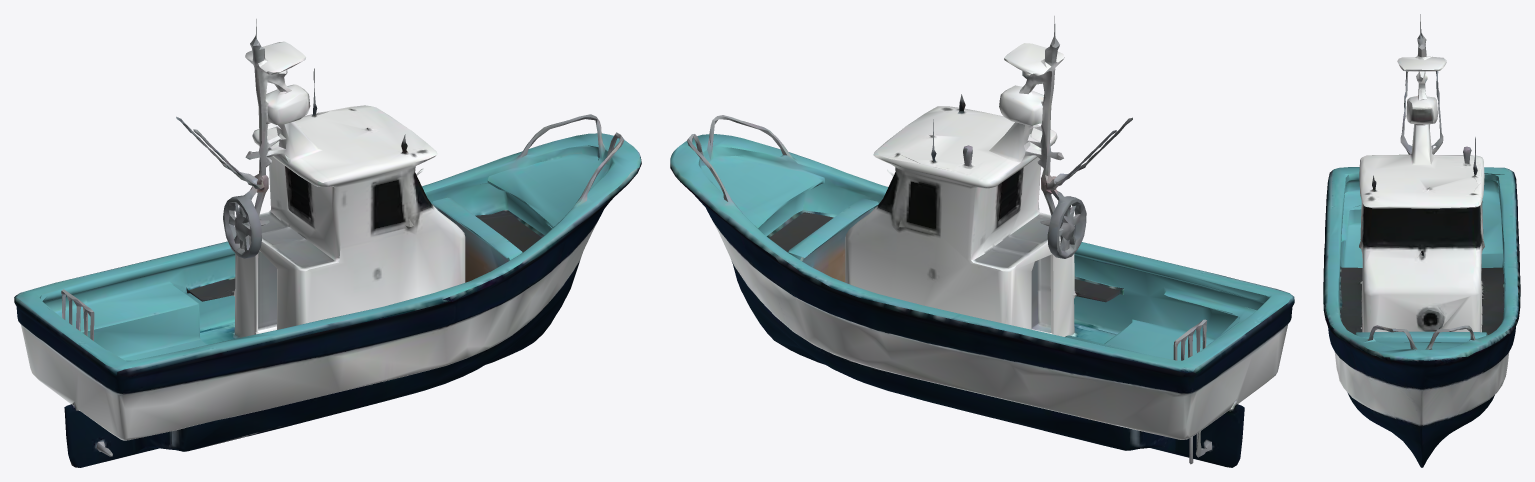
The model's file is boat.glb.
3 renders of one model, left to right at view 1: azimuth 30°, elevation 25°; view 2: azimuth 150°, elevation 25°; view 3: azimuth 270°, elevation 25°, orthographic. The views are drawn at different scales.
Parts seen in each view (by area): view 1: boat; view 2: boat; view 3: boat.
Part boxes in pixels (box(x1,y1,x2,y2)): boat: box(14, 19, 641, 467); boat: box(670, 16, 1294, 467); boat: box(1323, 14, 1520, 467).
Size of the model in its own units: 6.08 by 4.2 by 2.14.
Materials: 1 (1 with a texture image).
